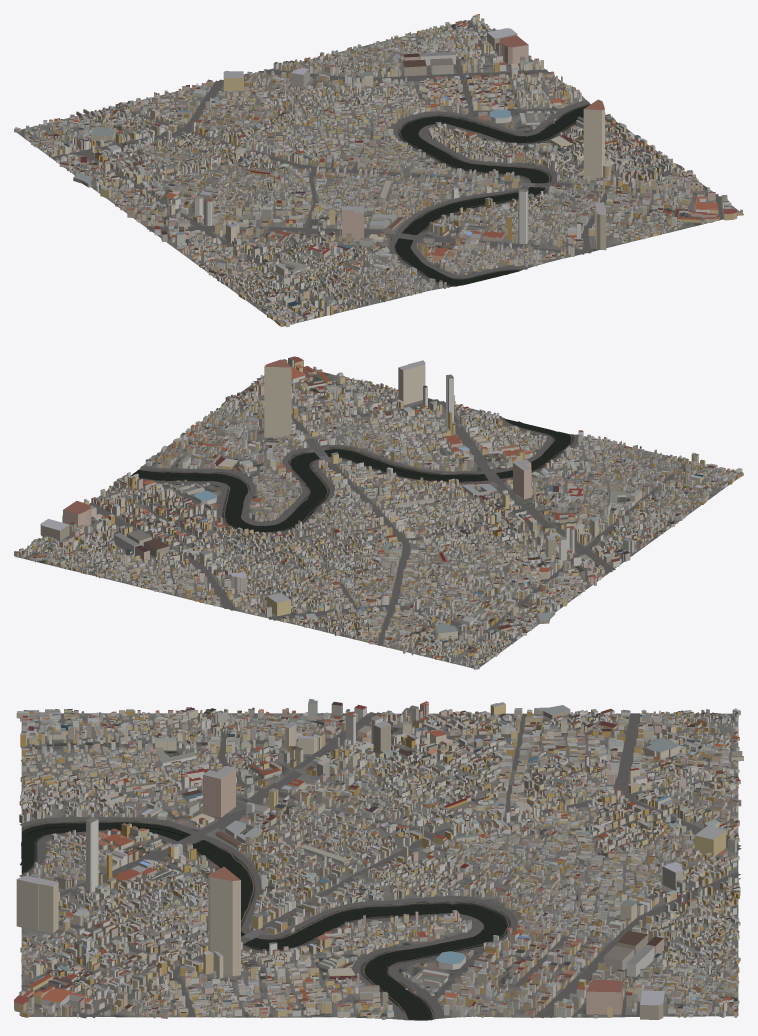
3 renders of one model, top to bottom at view 1: azimuth 30°, elevation 25°; view 2: azimuth 150°, elevation 25°; view 3: azimuth 270°, elevation 25°, orthographic. The views are drawn at different scales.
Visible parts, largest first — view 1: buildings, ground, roads, water; view 2: buildings, ground, roads, water; view 3: buildings, ground, roads, water.
Boxes of the visible parts, x1=… form: buildings: x1=14, y1=14, x2=742, y2=327; ground: x1=16, y1=20, x2=743, y2=326; roads: x1=20, y1=20, x2=737, y2=320; water: x1=362, y1=97, x2=587, y2=285; buildings: x1=14, y1=356, x2=743, y2=669; ground: x1=15, y1=372, x2=743, y2=667; roads: x1=24, y1=366, x2=720, y2=668; water: x1=131, y1=419, x2=570, y2=558; buildings: x1=14, y1=699, x2=743, y2=1019; ground: x1=21, y1=713, x2=738, y2=1020; roads: x1=19, y1=712, x2=741, y2=1019; water: x1=20, y1=823, x2=583, y2=1020.
Bounding box in the file's own units: 1434 × 215 × 1426.
